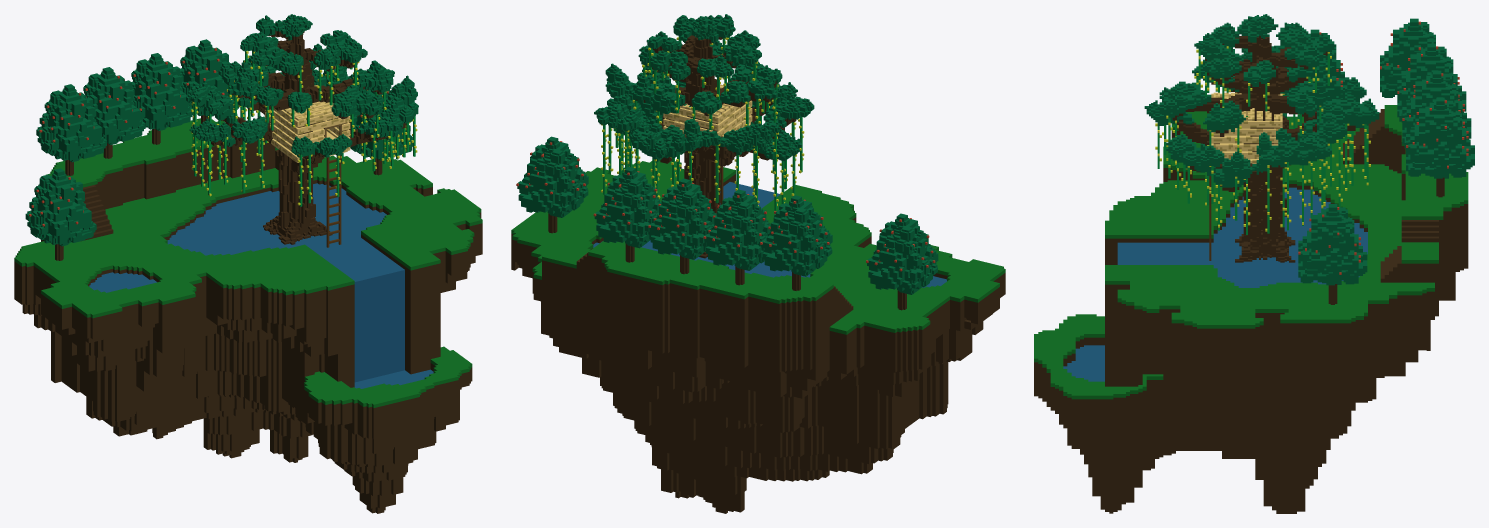
The picture shows the model from 3 angles, left to right: view 1: azimuth 30°, elevation 25°; view 2: azimuth 150°, elevation 25°; view 3: azimuth 270°, elevation 25°; orthographic projection. The views are drawn at different scales.
Parts seen in each view (by area): view 1: 大岛2, 大树, 树006, 树008, 树010, 树009, 树011, 树012; view 2: 大岛2, 大树, 树008, 树012, 树006, 树009, 树010, 树011; view 3: 大岛2, 大树, 树012, 树011, 树006, 树009, 树010, 树008.
Boxes of the visible parts, left/top/right/bottom form: 大岛2: left=14, top=118, right=482, bottom=513; 大树: left=186, top=14, right=418, bottom=247; 树006: left=36, top=84, right=106, bottom=175; 树008: left=25, top=168, right=96, bottom=260; 树010: left=131, top=53, right=192, bottom=144; 树009: left=83, top=67, right=145, bottom=158; 树011: left=180, top=39, right=238, bottom=123; 树012: left=350, top=90, right=412, bottom=175; 大岛2: left=511, top=160, right=1005, bottom=513; 大树: left=594, top=14, right=814, bottom=258; 树008: left=866, top=213, right=938, bottom=310; 树012: left=516, top=136, right=588, bottom=233; 树006: left=760, top=195, right=832, bottom=290; 树009: left=703, top=189, right=770, bottom=285; 树010: left=648, top=178, right=716, bottom=274; 树011: left=593, top=167, right=661, bottom=262; 大岛2: left=1034, top=105, right=1468, bottom=513; 大树: left=1144, top=14, right=1379, bottom=262; 树012: left=1298, top=204, right=1367, bottom=304; 树011: left=1406, top=97, right=1474, bottom=197; 树006: left=1380, top=18, right=1435, bottom=97; 树009: left=1397, top=43, right=1466, bottom=122; 树010: left=1402, top=70, right=1471, bottom=148; 树008: left=1284, top=29, right=1349, bottom=119.
Size of the model in its own units: 242 by 252 by 205.
